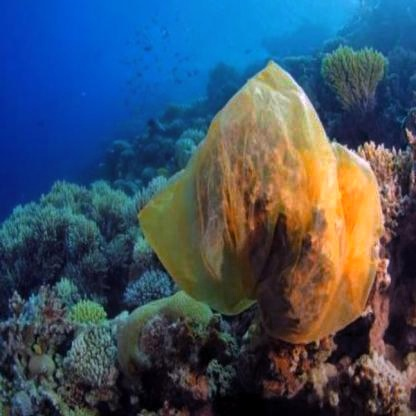plastic: (147, 70, 376, 379)
